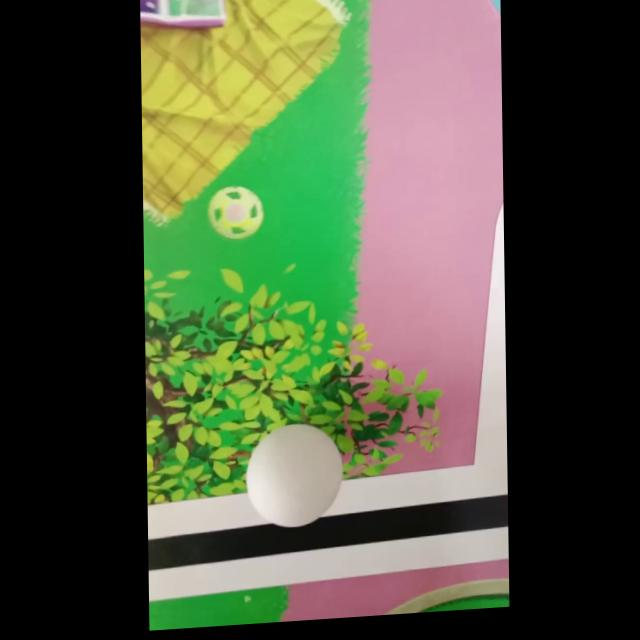white ball: (245, 420, 344, 530)
